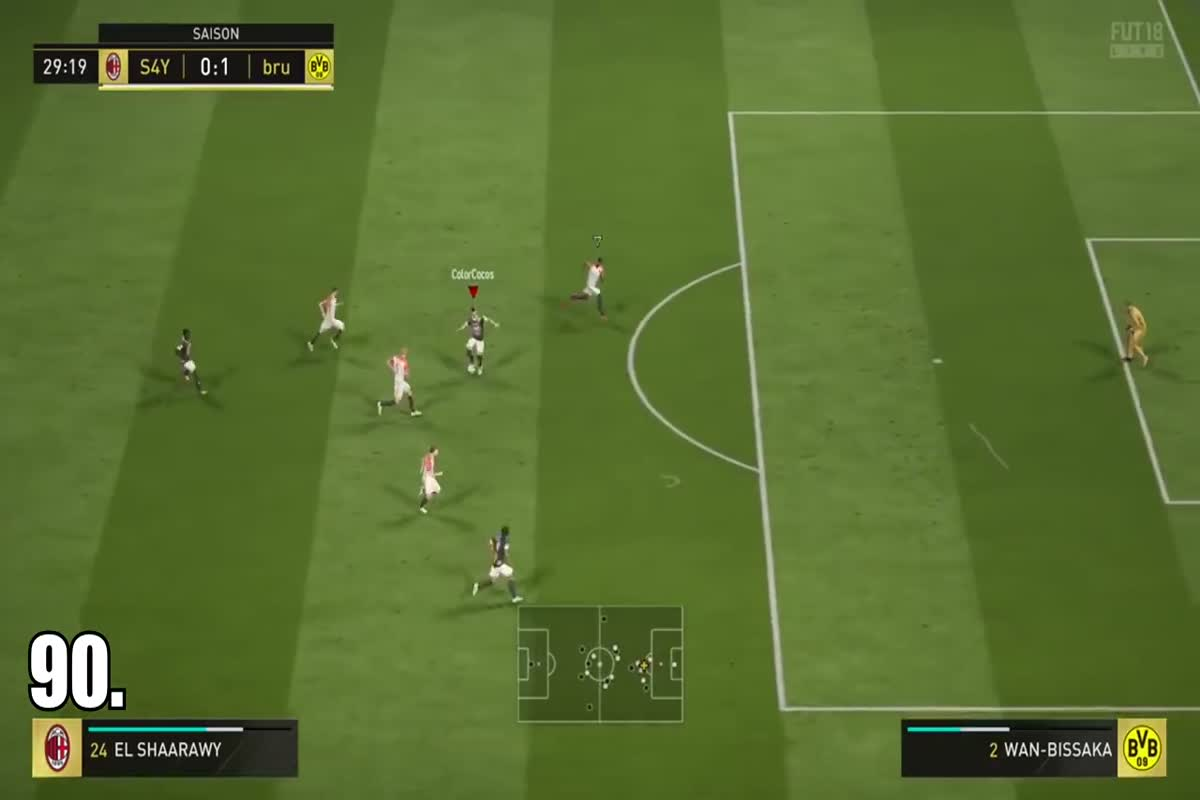ball: (461, 359, 483, 380)
